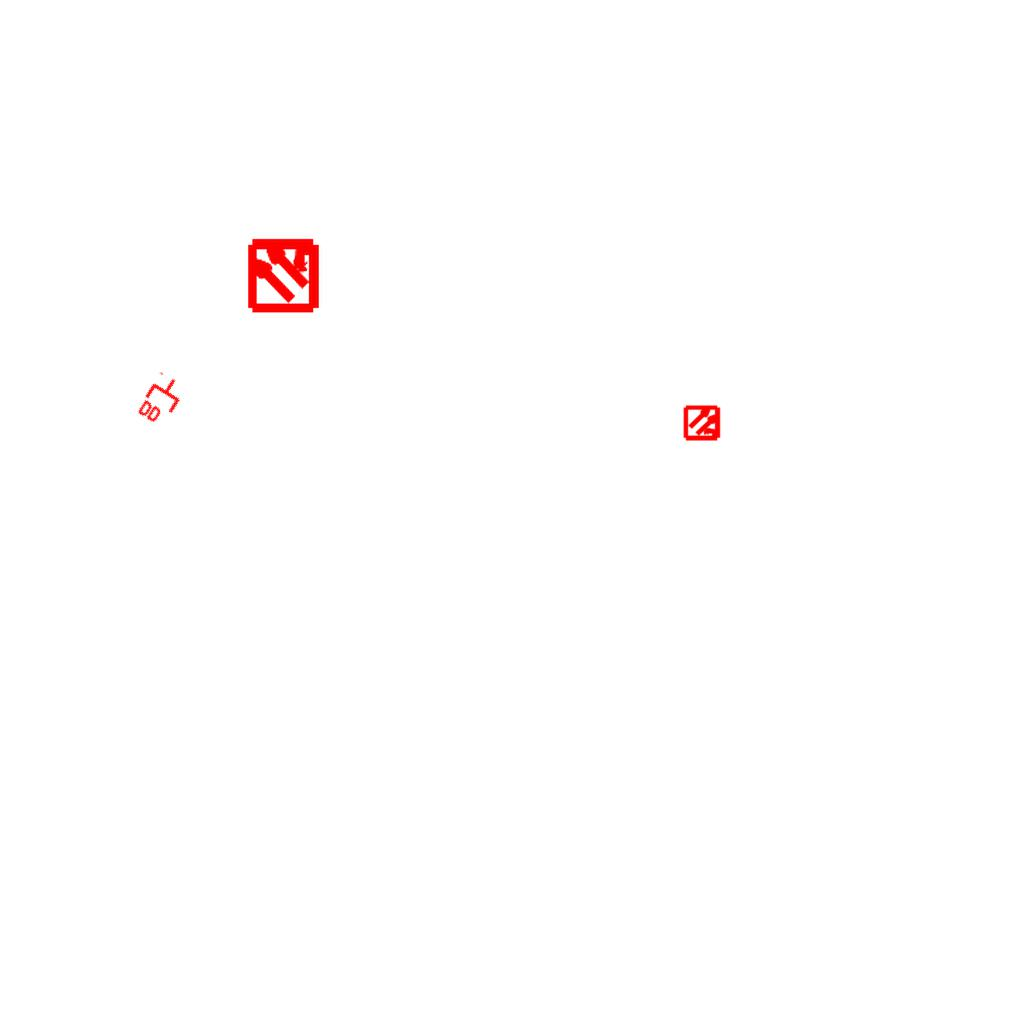Datenanschluss_zweifach: (134, 369, 190, 432)
OT_Multisensormelder_(Kombination_RMO_WMD): (227, 217, 340, 330), (675, 395, 731, 451)
